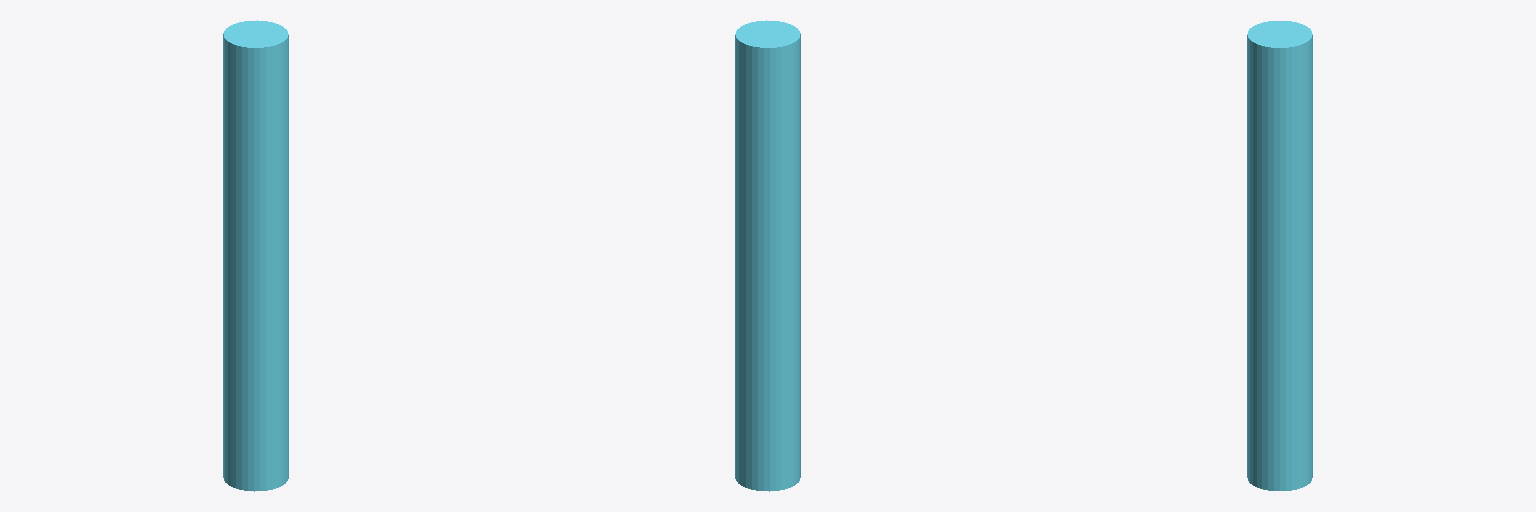
robot.urdf — panda:
<?xml version='1.0' encoding='utf-8'?>
<robot name="panda">

    <link name="link0">
      <inertial>
        <origin xyz="0 0 0.05" rpy="0 0 0" />
        <mass value="4" />
        <inertia ixx="0.4" iyy="0.4" izz="0.4" ixy="0" ixz="0" iyz="0" />
      </inertial>
      <visual>
        <geometry>
          <mesh filename="../../../Model/meshes/visual/link0.obj"/>
        </geometry>
      </visual>
<!--       <collision>
        <geometry>
          <mesh filename="../../../Model/meshes/collision/link0.obj"/>
        </geometry>
      </collision> -->
    </link>
    <link name="link1">
      <inertial>
        <origin xyz="0 0 -0.07" rpy="0 -0 0" />
        <mass value="3" />
        <inertia ixx="0.3" iyy="0.3" izz="0.3" ixy="0" ixz="0" iyz="0" />
      </inertial>
      <visual>
        <geometry>
          <mesh filename="../../../Model/meshes/visual/link1.obj"/>
        </geometry>
      </visual>
      <!-- <collision>
        <geometry>
          <mesh filename="../../../Model/meshes/collision/link1.obj"/>
        </geometry>
      </collision> -->
    </link>
    <link name="link2">
      <inertial>
        <origin xyz="0 -0.1 0" rpy="0 -0 0" />
        <mass value="3" />
        <inertia ixx="0.3" iyy="0.3" izz="0.3" ixy="0" ixz="0" iyz="0" />
      </inertial>
      <visual>
        <geometry>
          <mesh filename="../../../Model/meshes/visual/link2.obj"/>
        </geometry>
      </visual>
      <!-- <collision>
        <geometry>
          <mesh filename="../../../Model/meshes/collision/link2.obj"/>
        </geometry>
      </collision> -->
    </link>
    <link name="link3">
      <inertial>
        <origin xyz="0.04 0 -0.05" rpy="0 -0 0" />
        <mass value="2" />
        <inertia ixx="0.2" iyy="0.2" izz="0.2" ixy="0" ixz="0" iyz="0" />
      </inertial>
      <visual>
        <geometry>
          <mesh filename="../../../Model/meshes/visual/link3.obj"/>
        </geometry>
      </visual>
      <!-- <collision>
        <geometry>
          <mesh filename="../../../Model/meshes/collision/link3.obj"/>
        </geometry>
      </collision> -->
    </link>
    <link name="link4">
      <inertial>
        <origin xyz="-0.04 0.05 0" rpy="0 -0 0" />
        <mass value="2" />
        <inertia ixx="0.2" iyy="0.2" izz="0.2" ixy="0" ixz="0" iyz="0" />
      </inertial>
      <visual>
        <geometry>
          <mesh filename="../../../Model/meshes/visual/link4.obj"/>
        </geometry>
      </visual>
<!--       <collision>
        <geometry>
          <mesh filename="../../../Model/meshes/collision/link4.obj"/>
        </geometry>
      </collision> -->
    </link>
    <link name="link5">
      <inertial>
        <origin xyz="0 0 -0.15" rpy="0 -0 0" />
        <mass value="2" />
        <inertia ixx="0.2" iyy="0.2" izz="0.2" ixy="0" ixz="0" iyz="0" />
      </inertial>
      <visual>
        <geometry>
          <mesh filename="../../../Model/meshes/visual/link5.obj"/>
        </geometry>
      </visual>
<!--       <collision>
        <geometry>
          <mesh filename="../../../Model/meshes/collision/link5.obj"/>
        </geometry>
      </collision> -->
    </link>
    <link name="link6">
      <inertial>
        <origin xyz="0.06 0 0" rpy="0 -0 0" />
        <mass value="1.5" />
        <inertia ixx="0.1" iyy="0.1" izz="0.1" ixy="0" ixz="0" iyz="0" />
      </inertial>
      <visual>
        <geometry>
          <mesh filename="../../../Model/meshes/visual/link6.obj"/>
        </geometry>
      </visual>
      <!-- <collision>
        <geometry>
          <mesh filename="../../../Model/meshes/collision/link6.obj"/>
        </geometry>
      </collision> -->
    </link>
    <link name="link7">
      <inertial>
        <origin xyz="0 0 0.17" rpy="0 -0 0" />
        <mass value="1.8" />
        <inertia ixx="0.09" iyy="0.05" izz="0.07" ixy="0" ixz="0" iyz="0" />
      </inertial>
      <visual>
        <geometry>
          <mesh filename="../../../Model/meshes/visual/link7.obj"/>
        </geometry>
      </visual>
      <visual>
        <origin xyz="-0.075 0 0.12" rpy="0 1.57079632679 0" />
        <geometry>
          <cylinder radius="0.01" length="0.15"/>
        </geometry>
        <material name="material_blue">
            <color rgba="0.50 0.92 1.00 1.0" />
          </material>
      </visual>
<!--       <collision >
        <origin xyz="0 0 0.12" rpy="0 0 0" />
        <geometry>
          <box size="0.07 0.07 0.04"/>
        </geometry>
      </collision> -->
      <!-- <collision>
        <geometry>
          <mesh filename="../../../Model/meshes/collision/link7.obj"/>
        </geometry>
      </collision> -->
    </link>
    <joint name="joint1" type="revolute">
      <safety_controller k_position="100.0" k_velocity="40.0" soft_lower_limit="-2.8973" soft_upper_limit="2.8973"/>
      <origin rpy="0 0 0" xyz="0 0 0.333"/>
      <parent link="link0"/>
      <child link="link1"/>
      <axis xyz="0 0 1"/>
      <limit effort="87" lower="-2.8973" upper="2.8973" velocity="2.1750"/>
    </joint>
    <joint name="joint2" type="revolute">
      <safety_controller k_position="100.0" k_velocity="40.0" soft_lower_limit="-1.7628" soft_upper_limit="1.7628"/>
      <origin rpy="-1.57079632679 0 0" xyz="0 0 0"/>
      <parent link="link1"/>
      <child link="link2"/>
      <axis xyz="0 0 1"/>
      <calibration falling="30.0" />
      <limit effort="87" lower="-1.7628" upper="1.7628" velocity="2.1750"/>
    </joint>
    <joint name="joint3" type="revolute">
      <safety_controller k_position="100.0" k_velocity="40.0" soft_lower_limit="-2.8973" soft_upper_limit="2.8973"/>
      <origin rpy="1.57079632679 0 0" xyz="0 -0.316 0"/>
      <parent link="link2"/>
      <child link="link3"/>
      <axis xyz="0 0 1"/>
      <limit effort="87" lower="-2.8973" upper="2.8973" velocity="2.1750"/>
    </joint>
    <joint name="joint4" type="revolute">
      <safety_controller k_position="100.0" k_velocity="40.0" soft_lower_limit="-3.0718" soft_upper_limit="-0.0698"/>
      <origin rpy="1.57079632679 0 0" xyz="0.0825 0 0"/>
      <parent link="link3"/>
      <child link="link4"/>
      <axis xyz="0 0 1"/>
      <calibration falling="-90.0" />
      <limit effort="87" lower="-3.0718" upper="-0.0698" velocity="2.1750"/>
    </joint>
    <joint name="joint5" type="revolute">
      <safety_controller k_position="100.0" k_velocity="40.0" soft_lower_limit="-2.8973" soft_upper_limit="2.8973"/>
      <origin rpy="-1.57079632679 0 0" xyz="-0.0825 0.384 0"/>
      <parent link="link4"/>
      <child link="link5"/>
      <axis xyz="0 0 1"/>
      <limit effort="12" lower="-2.8973" upper="2.8973" velocity="2.6100"/>
    </joint>
    <joint name="joint6" type="revolute">
      <safety_controller k_position="100.0" k_velocity="40.0" soft_lower_limit="-0.0175" soft_upper_limit="3.7525"/>
      <origin rpy="1.57079632679 0 0" xyz="0 0 0"/>
      <parent link="link5"/>
      <child link="link6"/>
      <axis xyz="0 0 1"/>
      <calibration falling="120.0" />
      <limit effort="12" lower="-0.0175" upper="3.7525" velocity="2.6100"/>
    </joint>
    <joint name="joint7" type="revolute">
      <safety_controller k_position="100.0" k_velocity="40.0" soft_lower_limit="-2.8973" soft_upper_limit="2.8973"/>
      <origin rpy="1.57079632679 0 0" xyz="0.088 0 0"/>
      <parent link="link6"/>
      <child link="link7"/>
      <axis xyz="0 0 1"/>
      <limit effort="12" lower="-2.8973" upper="2.8973" velocity="2.6100"/>
    </joint>
</robot>

--- Render facts (derived) ---
3 views of the same robot in one strip: view 1: azimuth 30°, elevation 25°; view 2: azimuth 150°, elevation 25°; view 3: azimuth 270°, elevation 25° (orthographic).
Robot: panda — 8 links, 7 joints (7 revolute); root link link0; default pose: all joints at 0 but 1 set to mid-range because 0 is outside their limits (joint4 = -1.57).
Visible links, largest first — view 1: link7; view 2: link7; view 3: link7.
Boxes of the visible links, box(x1,y1,x2,y2) form: link7: box(223, 20, 288, 491); link7: box(735, 20, 800, 491); link7: box(1247, 21, 1312, 490).
Bounding box of the posed robot: 0.02 × 0.02 × 0.15 m (x, y, z).
Geometry: only primitive shapes (box / cylinder / sphere) drawn; not drawn: 8 mesh visuals (reference in a form the renderer does not follow).